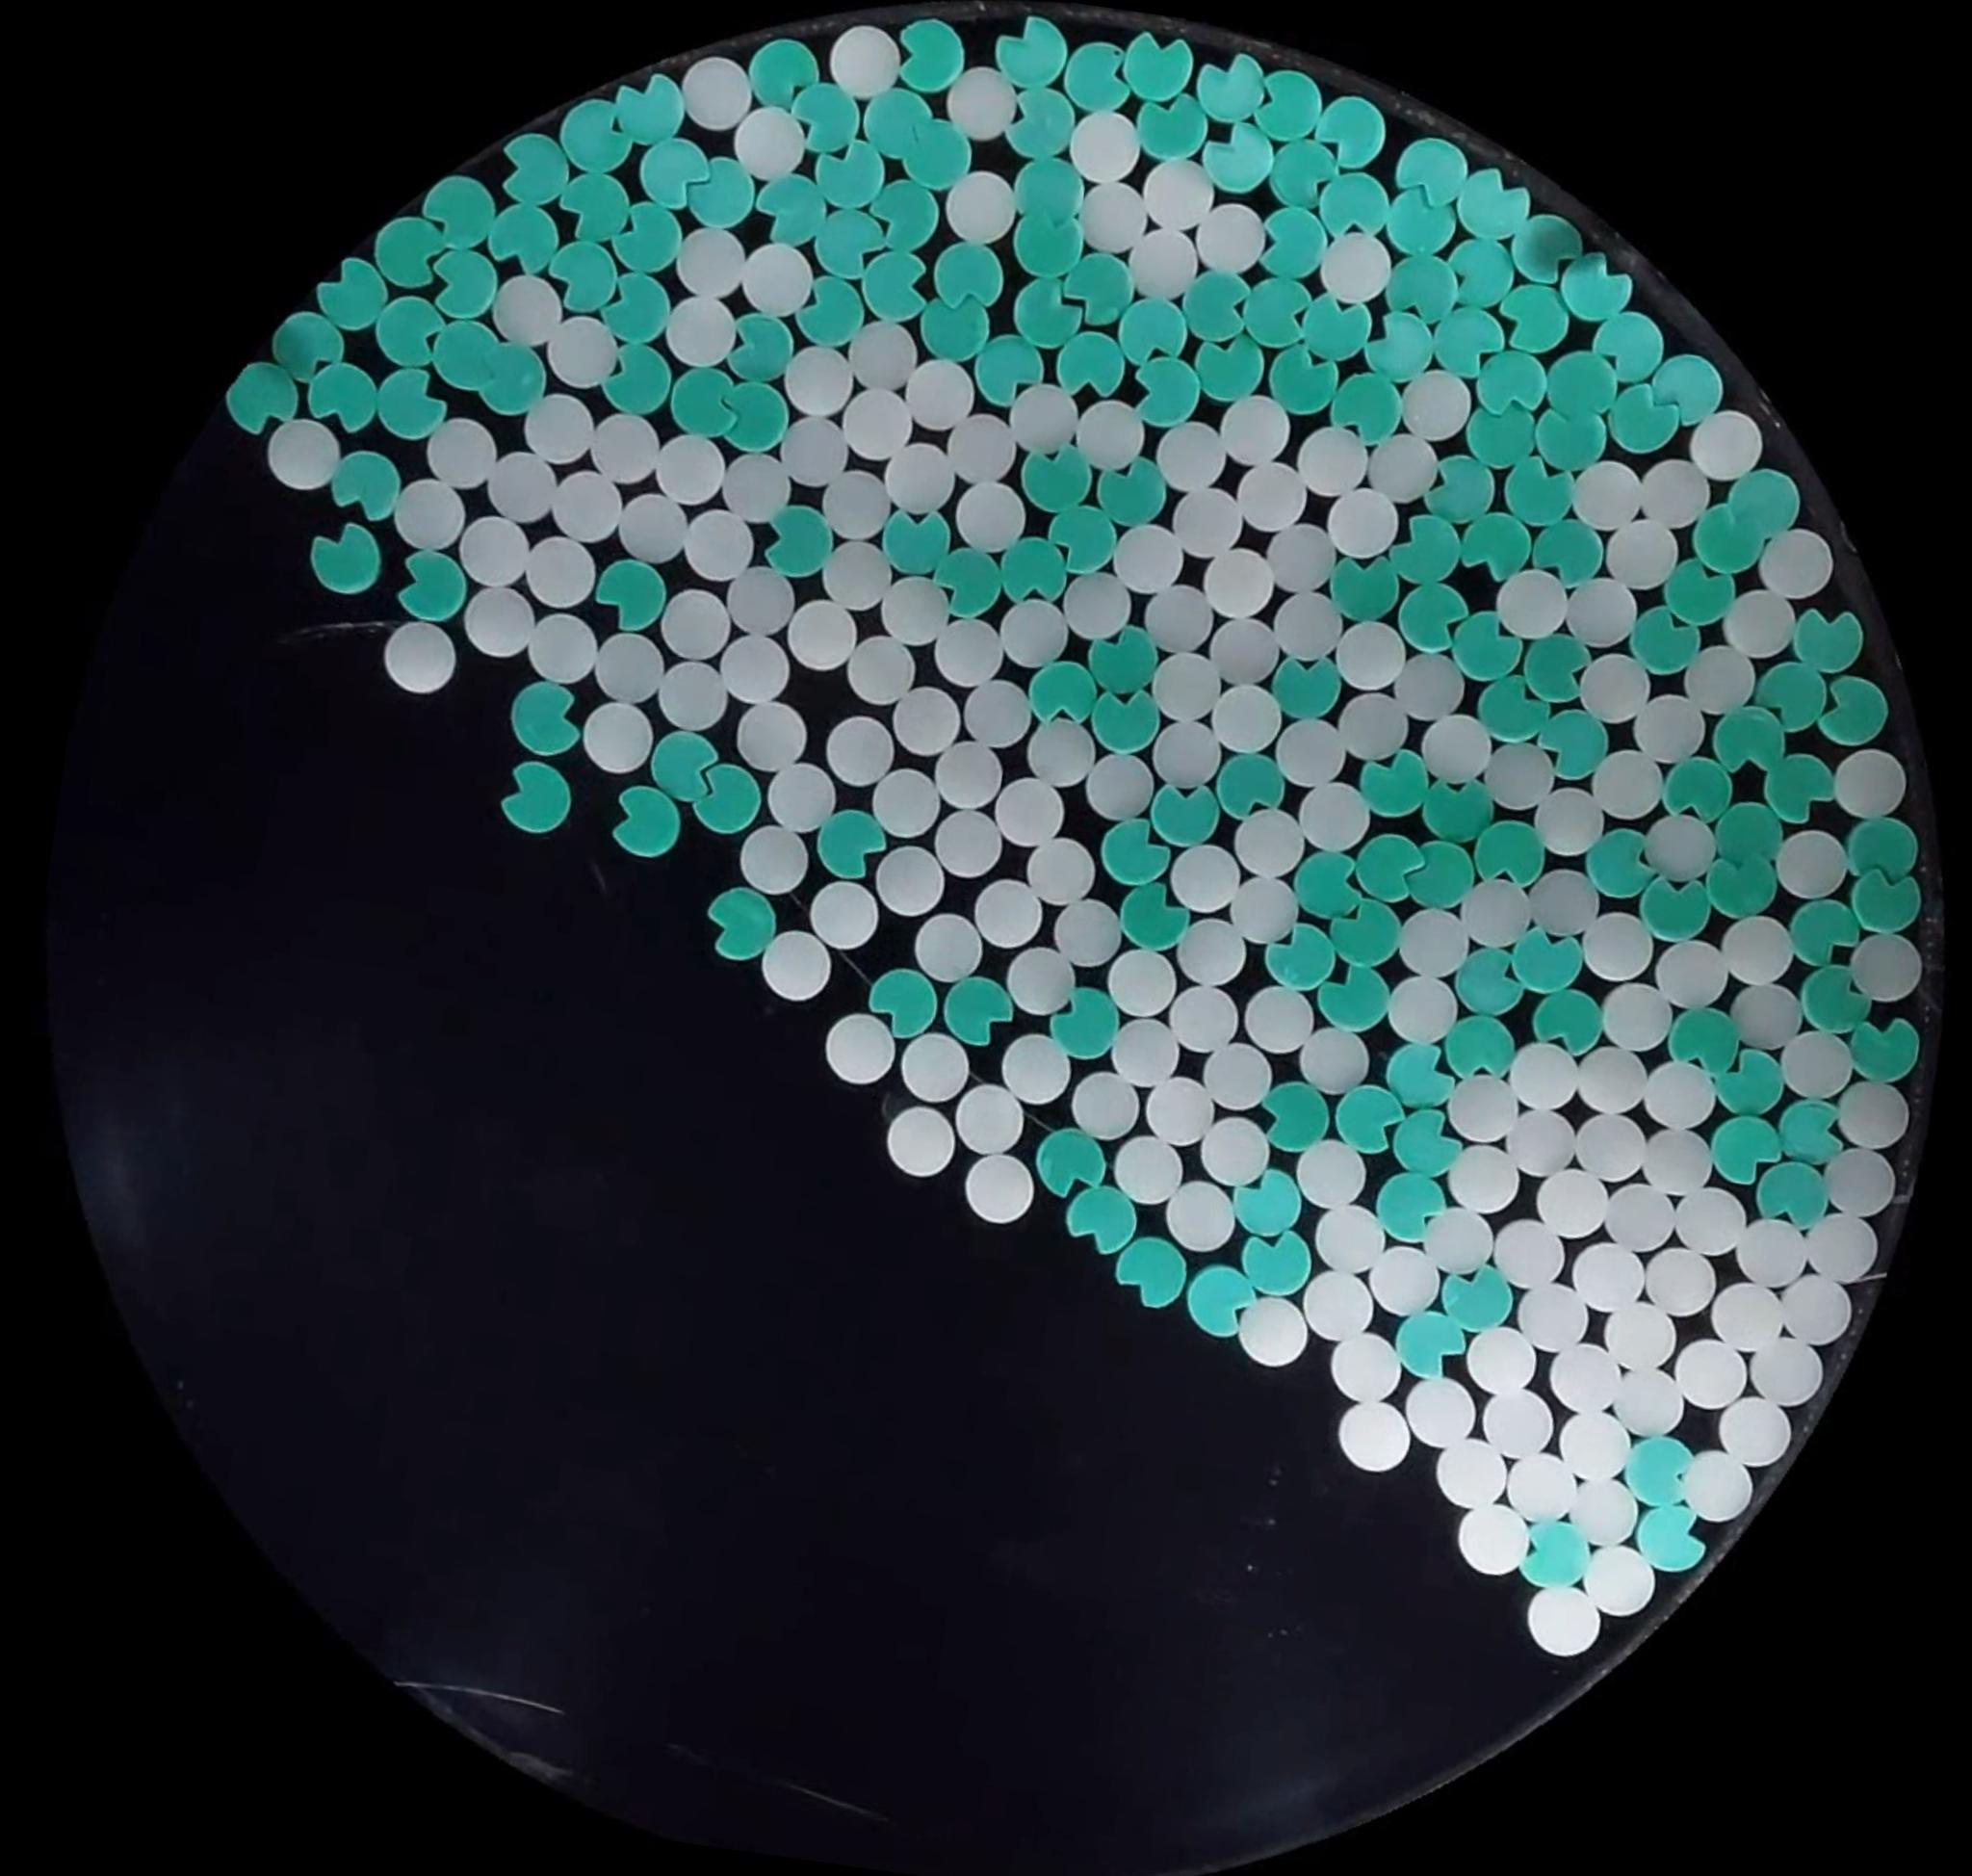no-convexa1: (1430, 927, 1530, 1041), (1583, 298, 1683, 405), (771, 58, 872, 166), (636, 343, 732, 454), (680, 137, 771, 252), (997, 137, 1097, 240), (896, 99, 990, 208), (1268, 835, 1377, 927), (1627, 342, 1724, 444), (465, 180, 560, 280), (1479, 446, 1583, 537), (1049, 245, 1146, 342), (1500, 1501, 1593, 1601), (1611, 1427, 1708, 1522), (1078, 611, 1171, 710), (1778, 951, 1879, 1043), (1467, 340, 1560, 437), (850, 250, 946, 343), (539, 160, 636, 252), (474, 336, 563, 435), (776, 266, 870, 359), (370, 210, 463, 303), (1523, 507, 1615, 602), (991, 262, 1086, 354), (1255, 127, 1350, 218), (1407, 437, 1497, 534), (417, 233, 500, 336), (1185, 268, 1268, 370), (856, 74, 938, 176), (1379, 504, 1470, 595), (1490, 273, 1583, 363), (412, 308, 497, 405), (750, 160, 833, 259), (372, 287, 447, 395), (1049, 326, 1139, 416), (912, 227, 1004, 315), (706, 373, 792, 467), (792, 136, 877, 231), (578, 271, 674, 354), (1456, 507, 1544, 597), (1343, 743, 1439, 826), (717, 303, 805, 391), (1252, 211, 1326, 315), (935, 537, 1014, 634), (1104, 299, 1201, 379), (1449, 398, 1537, 484), (637, 719, 724, 807), (1706, 1039, 1789, 1131), (859, 166, 940, 259), (632, 118, 711, 213), (551, 231, 629, 328), (1718, 463, 1805, 550), (1375, 181, 1460, 270), (995, 78, 1071, 174), (995, 523, 1079, 609), (1090, 442, 1173, 530), (1588, 388, 1683, 463), (1111, 874, 1196, 958), (502, 676, 586, 761), (1706, 777, 1787, 865), (1748, 664, 1828, 754), (1532, 698, 1616, 780), (1470, 668, 1556, 749), (1197, 114, 1280, 197), (305, 518, 387, 601), (1842, 858, 1924, 941), (1389, 1302, 1472, 1385), (1687, 497, 1768, 581), (1042, 502, 1129, 581), (968, 324, 1048, 410), (586, 329, 659, 423), (1313, 956, 1396, 1038), (1812, 669, 1893, 752), (1706, 699, 1789, 780), (1324, 365, 1407, 446), (1044, 983, 1125, 1066), (1324, 895, 1405, 978), (370, 363, 451, 446), (757, 502, 838, 585), (1542, 345, 1623, 428), (699, 884, 780, 967), (1259, 916, 1342, 997), (556, 93, 639, 174), (613, 196, 687, 285), (1453, 164, 1534, 245), (991, 12, 1072, 93), (1391, 130, 1472, 211), (1324, 548, 1405, 629), (491, 132, 572, 213), (1579, 823, 1660, 904), (1254, 1076, 1335, 1157), (745, 33, 826, 114), (1699, 844, 1780, 925), (1180, 1261, 1261, 1342), (1706, 1110, 1787, 1191), (1842, 1009, 1924, 1089), (1347, 828, 1430, 907), (417, 176, 500, 255), (1393, 574, 1472, 657), (1750, 1154, 1833, 1233), (1521, 398, 1600, 481), (1437, 241, 1519, 321), (1416, 766, 1493, 851), (1083, 682, 1164, 761), (1447, 608, 1527, 689), (1007, 203, 1086, 284), (1387, 1104, 1468, 1184), (1634, 868, 1715, 948), (810, 805, 889, 886), (1555, 247, 1636, 326), (303, 356, 382, 437), (861, 964, 942, 1043), (1784, 893, 1865, 972), (592, 555, 671, 636), (495, 757, 574, 838), (685, 759, 766, 838), (393, 546, 472, 627), (1370, 1168, 1451, 1247), (1662, 1001, 1743, 1080), (1109, 1233, 1188, 1314), (222, 358, 303, 437), (1505, 210, 1585, 291), (1060, 35, 1137, 118), (1521, 624, 1595, 710), (1773, 742, 1842, 833), (326, 446, 405, 525), (607, 70, 687, 150), (1030, 1124, 1109, 1203), (1315, 169, 1396, 247), (1440, 1008, 1521, 1085), (1842, 812, 1924, 888), (1393, 844, 1475, 920), (1266, 650, 1349, 726), (909, 292, 993, 366), (1144, 775, 1224, 853), (893, 18, 970, 97), (1192, 51, 1271, 129), (1660, 558, 1740, 636), (1625, 604, 1704, 682), (1657, 750, 1736, 828), (1225, 1164, 1305, 1242), (1023, 655, 1100, 735), (607, 784, 685, 863), (1380, 1036, 1460, 1113), (1236, 1224, 1315, 1302), (938, 972, 1018, 1050), (1060, 1178, 1139, 1256), (1504, 923, 1585, 999), (1250, 69, 1328, 146), (1118, 30, 1196, 107), (1331, 1082, 1409, 1159), (269, 308, 347, 386), (1470, 816, 1549, 891), (1527, 983, 1606, 1059), (1095, 814, 1174, 890), (1018, 442, 1097, 518), (1134, 90, 1213, 166), (1210, 747, 1289, 823), (315, 255, 391, 335), (1632, 1501, 1711, 1577), (1365, 291, 1430, 382), (1313, 92, 1389, 169), (1439, 1261, 1516, 1337), (1771, 1094, 1849, 1170), (1442, 303, 1505, 395), (1792, 602, 1868, 678), (879, 504, 953, 581), (1132, 347, 1201, 430), (1245, 271, 1313, 354), (813, 210, 882, 291), (1387, 254, 1456, 331), (1264, 338, 1333, 410), (1308, 287, 1370, 359), (1208, 331, 1268, 400)
